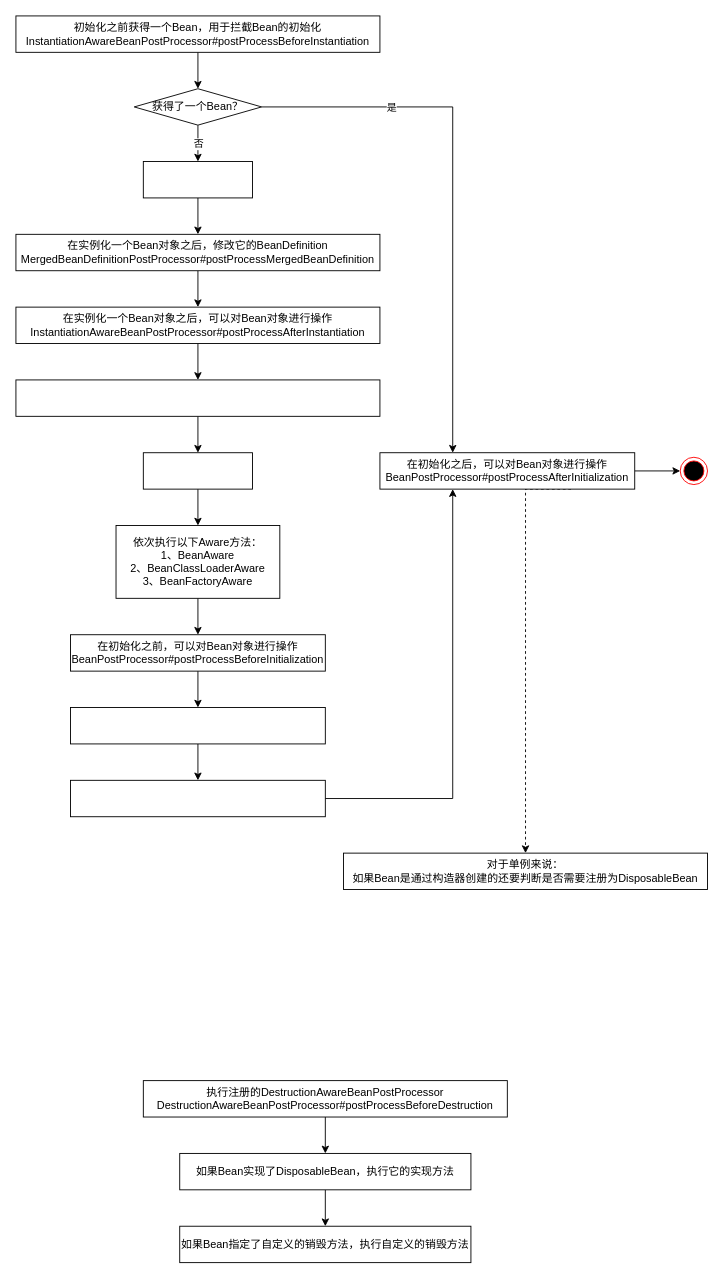
This 723x1279 diagram has some shape labels left out. Here are the shapes that lost their labels. From the top down, the box of each, then its label:
(142, 161, 253, 198): 创建对象
(15, 379, 380, 416): 在填充属性之前，可以修改用于填充的属性 InstantiationAwareBeanPostProcessor#postProcessProperties
(142, 452, 253, 489): 注入属性
(70, 707, 325, 744): 初始化方法 InitializingBean#afterPropertiesSet
(70, 779, 325, 817): 执行自定义的初始化方法
